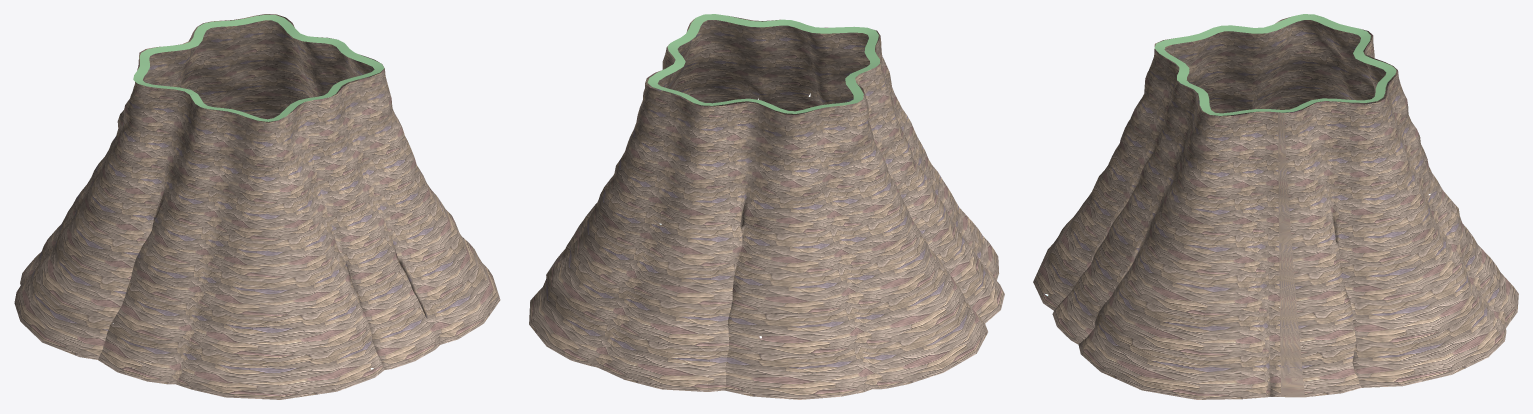
File: CliffWall_stack_07.glb
The picture shows the model from 3 angles, left to right: view 1: azimuth 30°, elevation 25°; view 2: azimuth 150°, elevation 25°; view 3: azimuth 270°, elevation 25°; orthographic projection. The views are drawn at different scales.
Parts seen in each view (by area): view 1: CliffWall_stack_07-rock0, CliffWall_stack_07-lip0; view 2: CliffWall_stack_07-rock0, CliffWall_stack_07-lip0; view 3: CliffWall_stack_07-rock0, CliffWall_stack_07-lip0.
Part boxes in pixels (x1=…): CliffWall_stack_07-rock0: x1=14, y1=14, x2=500, y2=399; CliffWall_stack_07-lip0: x1=133, y1=14, x2=384, y2=121; CliffWall_stack_07-rock0: x1=529, y1=16, x2=1004, y2=399; CliffWall_stack_07-lip0: x1=647, y1=14, x2=880, y2=113; CliffWall_stack_07-rock0: x1=1033, y1=17, x2=1518, y2=399; CliffWall_stack_07-lip0: x1=1154, y1=14, x2=1396, y2=115.
Size of the model in its own units: 416 by 223 by 419.
4 materials, 1 textured.
